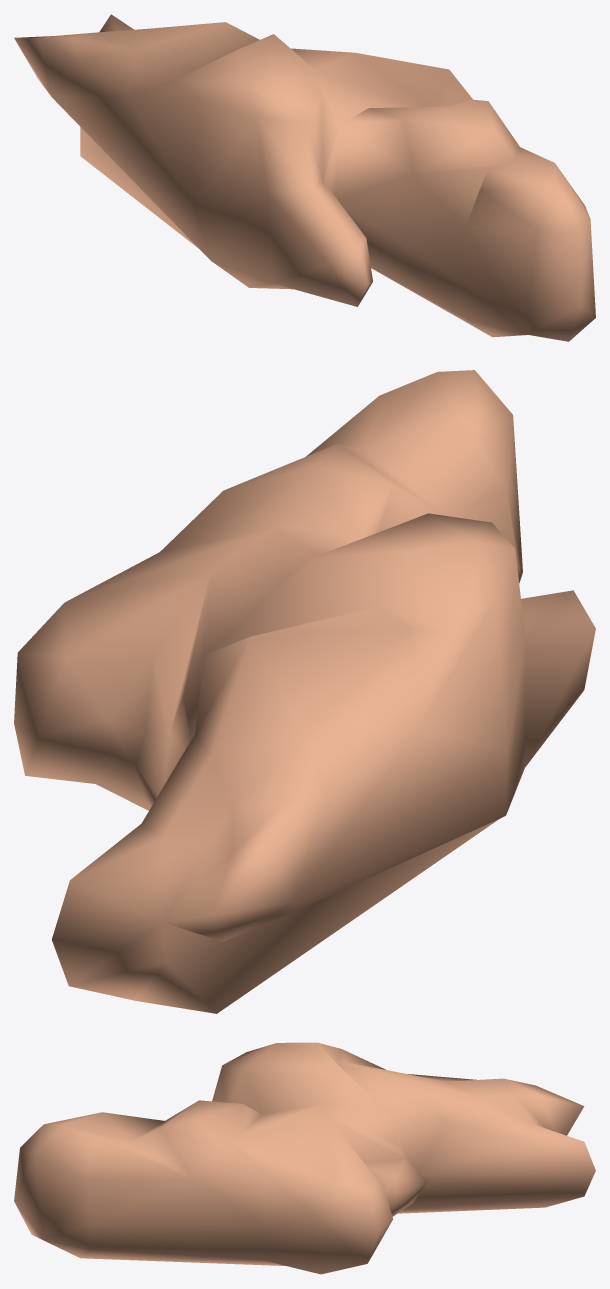
Rendered from cloud3.fbx.
The picture shows the model from 3 angles, top to bottom: view 1: azimuth 30°, elevation 25°; view 2: azimuth 150°, elevation 25°; view 3: azimuth 270°, elevation 25°; orthographic projection. The views are drawn at different scales.
Parts seen in each view (by area): view 1: Cube; view 2: Cube; view 3: Cube.
Boxes of the visible parts, x1=… form: Cube: x1=14, y1=14, x2=595, y2=341; Cube: x1=14, y1=370, x2=595, y2=1013; Cube: x1=14, y1=1042, x2=595, y2=1274.
Bounding box in the file's own units: 761 × 514 × 1727.
